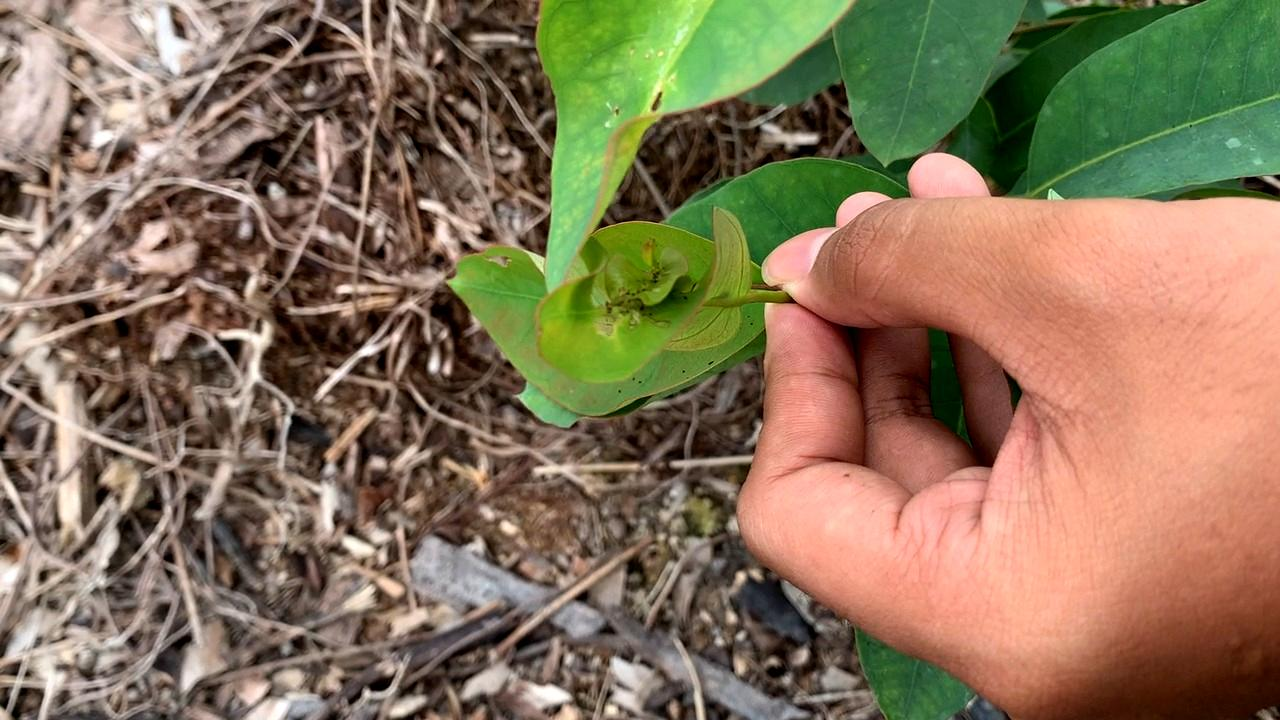Leaf Roller - Leaf: (575, 239, 716, 369)
